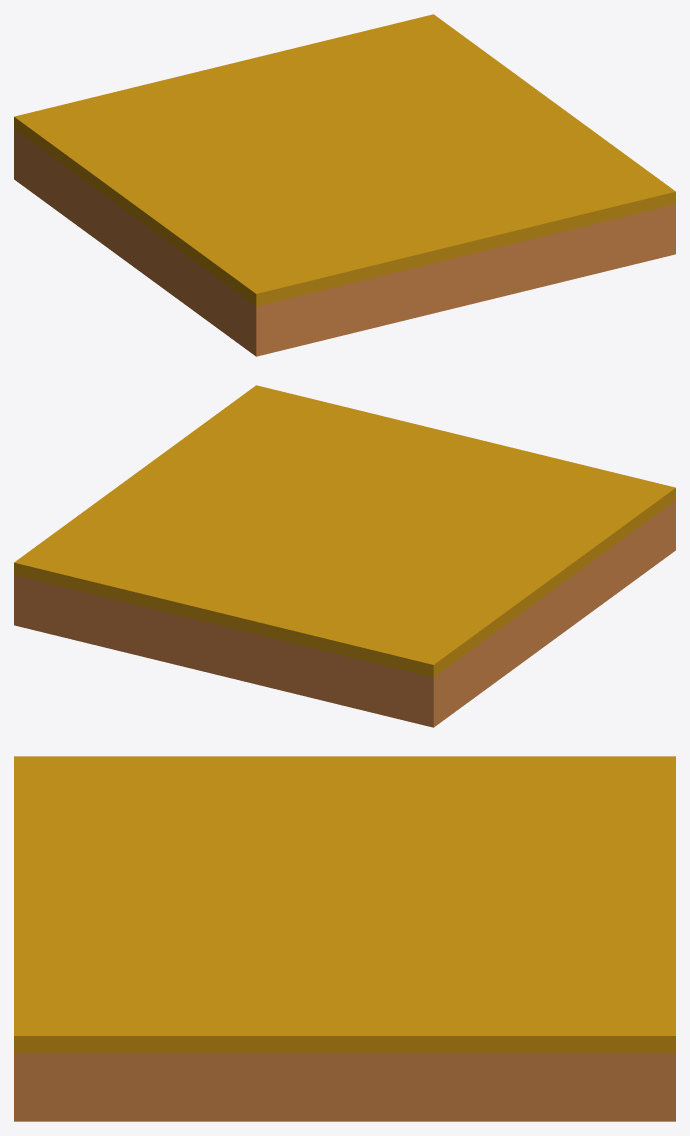
Rendered from desert.glb.
3 views of the same model, one above another, from view 1: azimuth 30°, elevation 25°; view 2: azimuth 150°, elevation 25°; view 3: azimuth 270°, elevation 25° (orthographic). The views are drawn at different scales.
Visible parts, largest first — view 1: mergedBlocks(Clone); view 2: mergedBlocks(Clone); view 3: mergedBlocks(Clone).
Part boxes in pixels (<box>): mergedBlocks(Clone): <box>14,14,675,356</box>; mergedBlocks(Clone): <box>14,385,675,727</box>; mergedBlocks(Clone): <box>14,756,675,1121</box>.
Size of the model in its own units: 7 by 1 by 7.
Materials: 1 (1 with a texture image).
